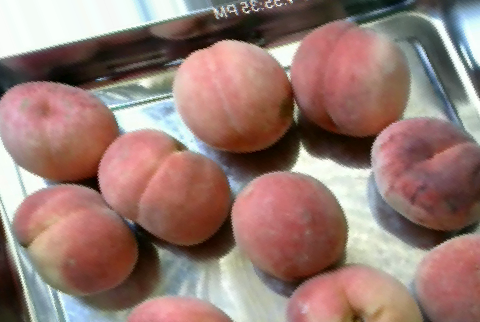Peach: (97, 130, 232, 246), (9, 183, 137, 296), (290, 20, 411, 139), (174, 39, 290, 151), (232, 170, 348, 279), (371, 114, 480, 230), (0, 81, 120, 180), (282, 261, 424, 320)
